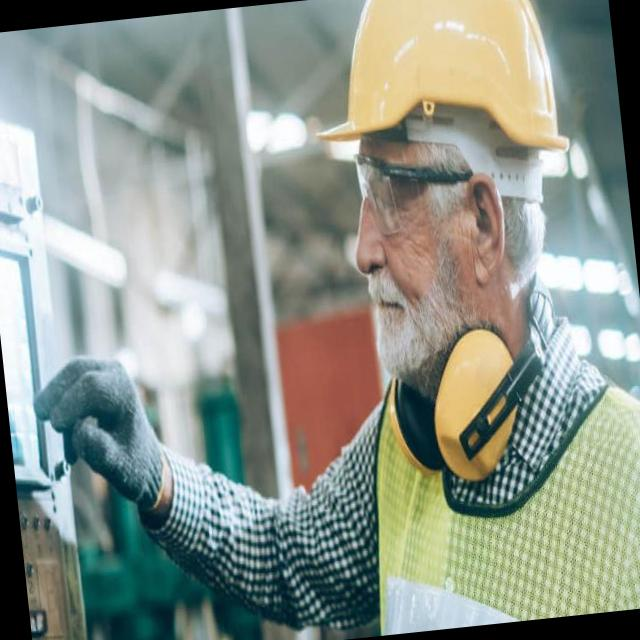Gloves: (25, 316, 167, 522)
Helmet: (301, 0, 586, 161)
